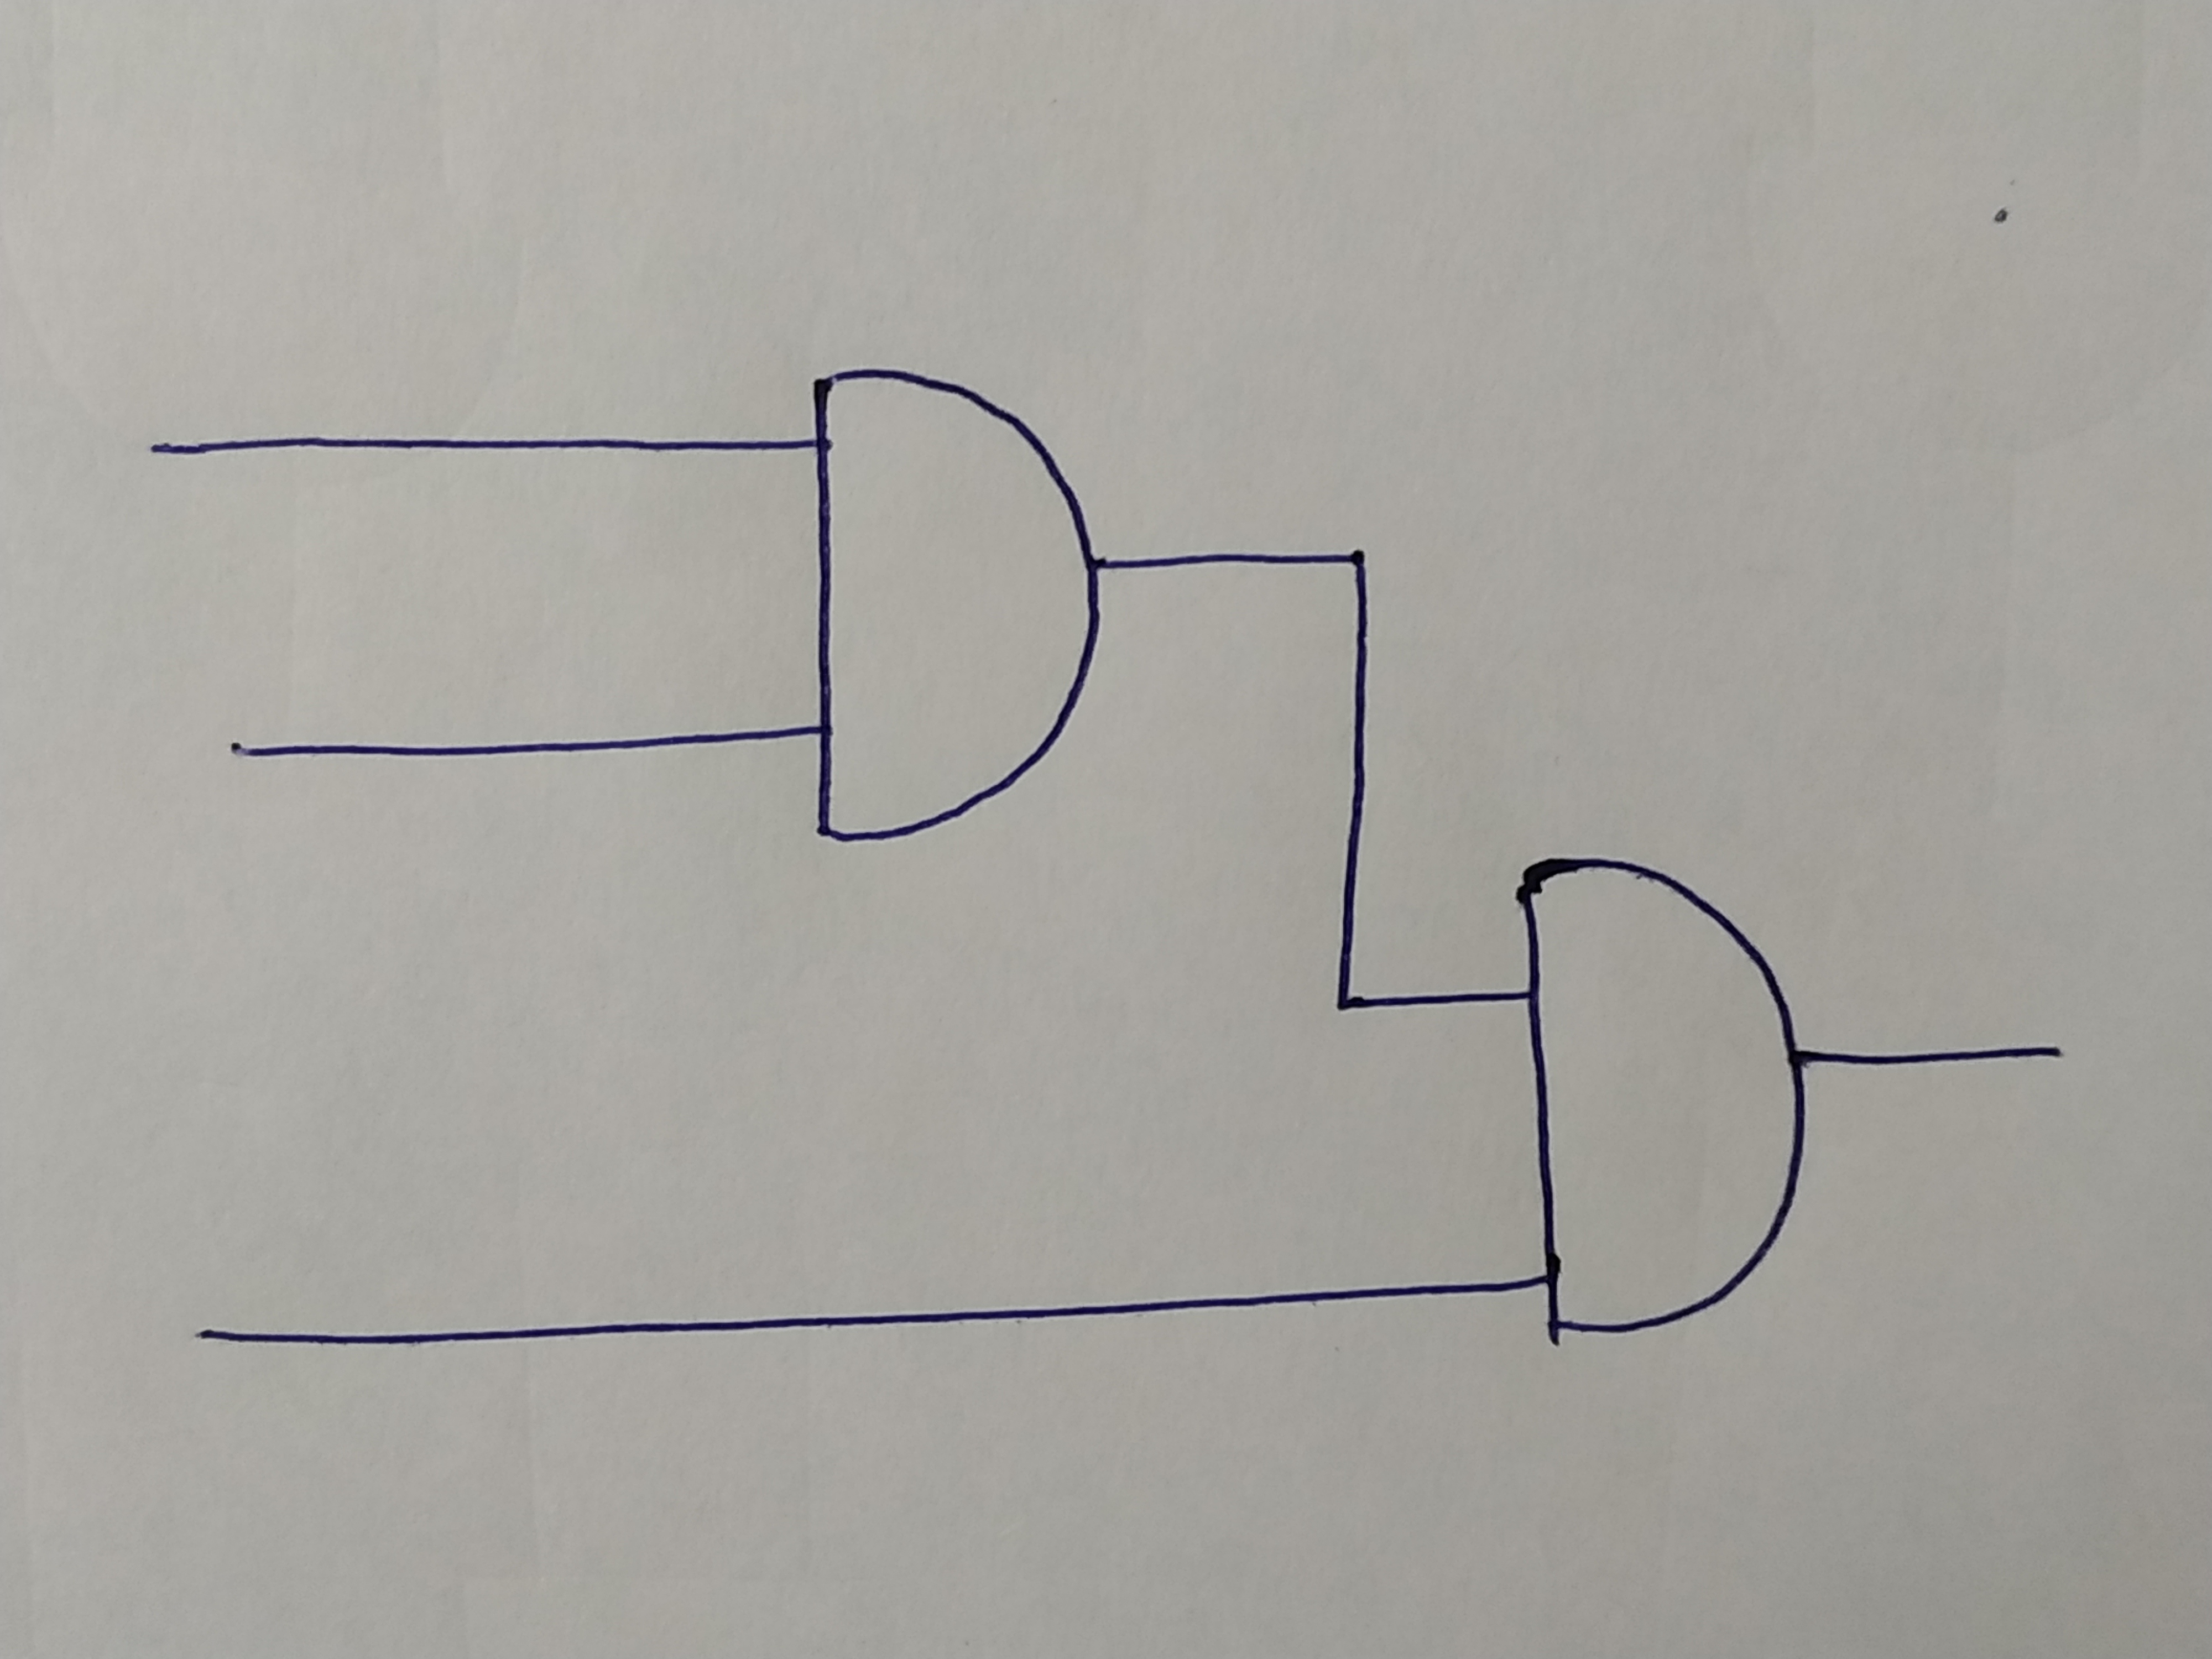and: (803, 371, 1099, 838), (1519, 859, 1801, 1333)
